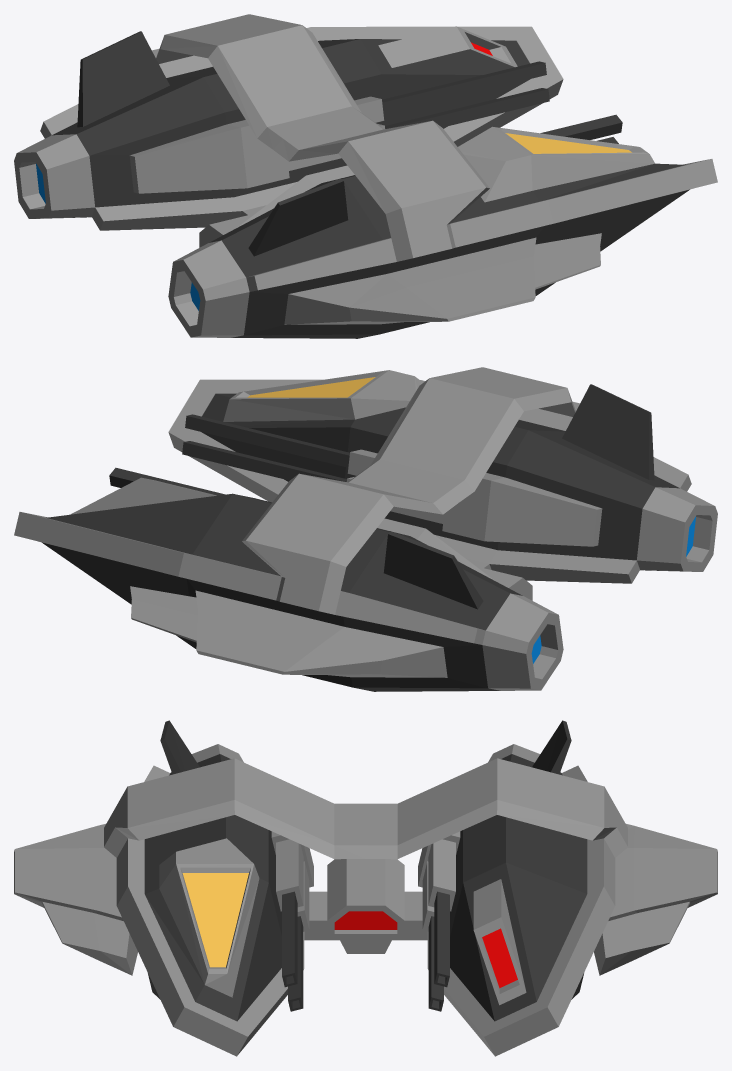
The model's file is SM_PlayershipType5.FBX.
The picture shows the model from 3 angles, top to bottom: view 1: azimuth 30°, elevation 25°; view 2: azimuth 150°, elevation 25°; view 3: azimuth 270°, elevation 25°; orthographic projection.
Parts seen in each view (by area): view 1: Box002; view 2: Box002; view 3: Box002.
Boxes of the visible parts, bbox=[...] form: Box002: bbox=[14, 14, 717, 338]; Box002: bbox=[14, 367, 717, 691]; Box002: bbox=[14, 720, 717, 1056].
Bounding box in the file's own units: 101 × 33.98 × 119.
